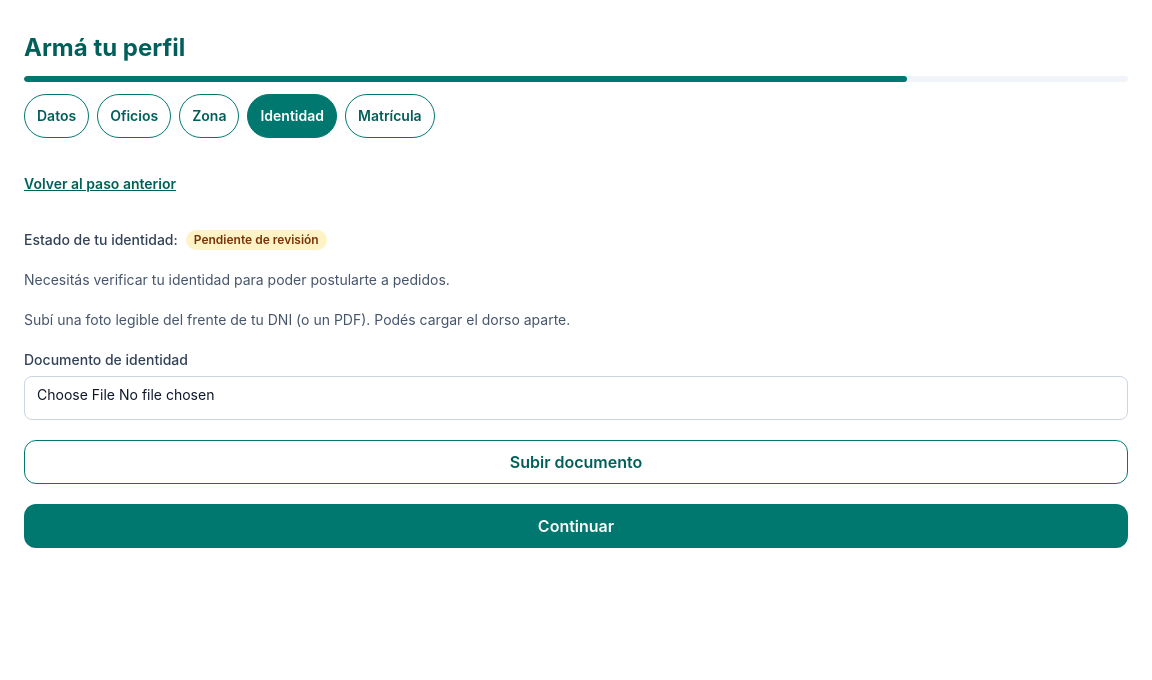
Test: ArmarPerfilWizard › con un oficio de matricula recomendada, el paso Matrícula aparece pero es salteable
The width and height of the screenshot is (1152, 680).
Step 1. Click the tab "Matrícula" → (390, 116), box x1=345 y1=94 x2=435 y2=138
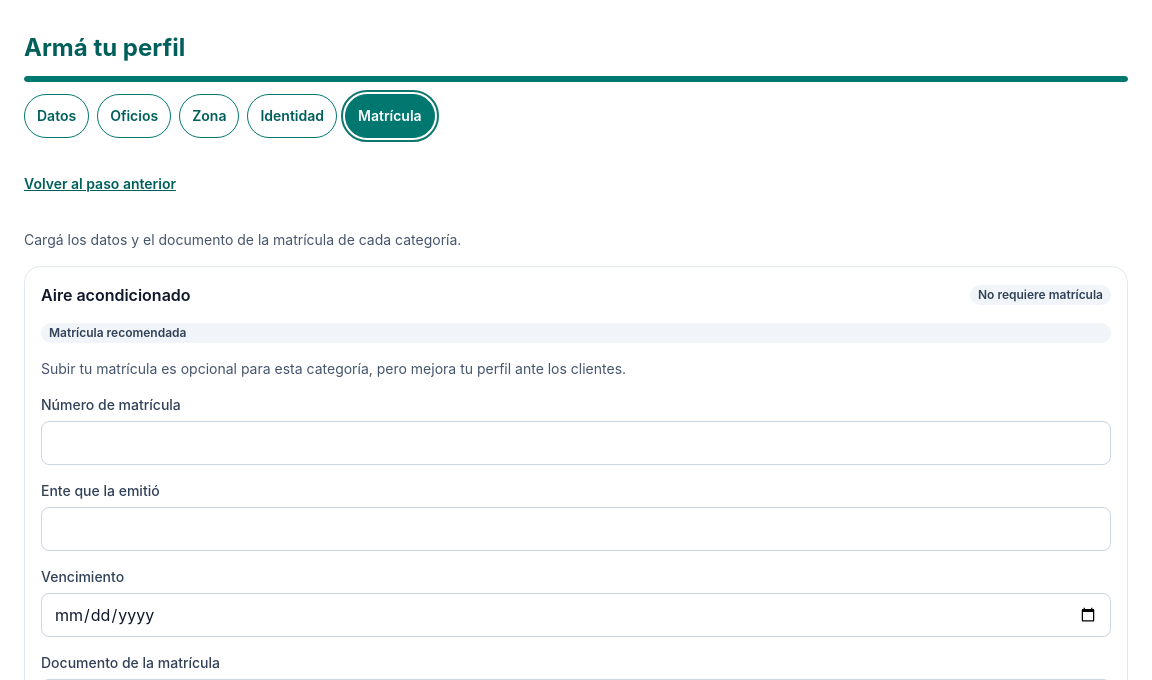
Check: the text "opcional para esta categoría" is shown, box x1=41 y1=360 x2=626 y2=377
